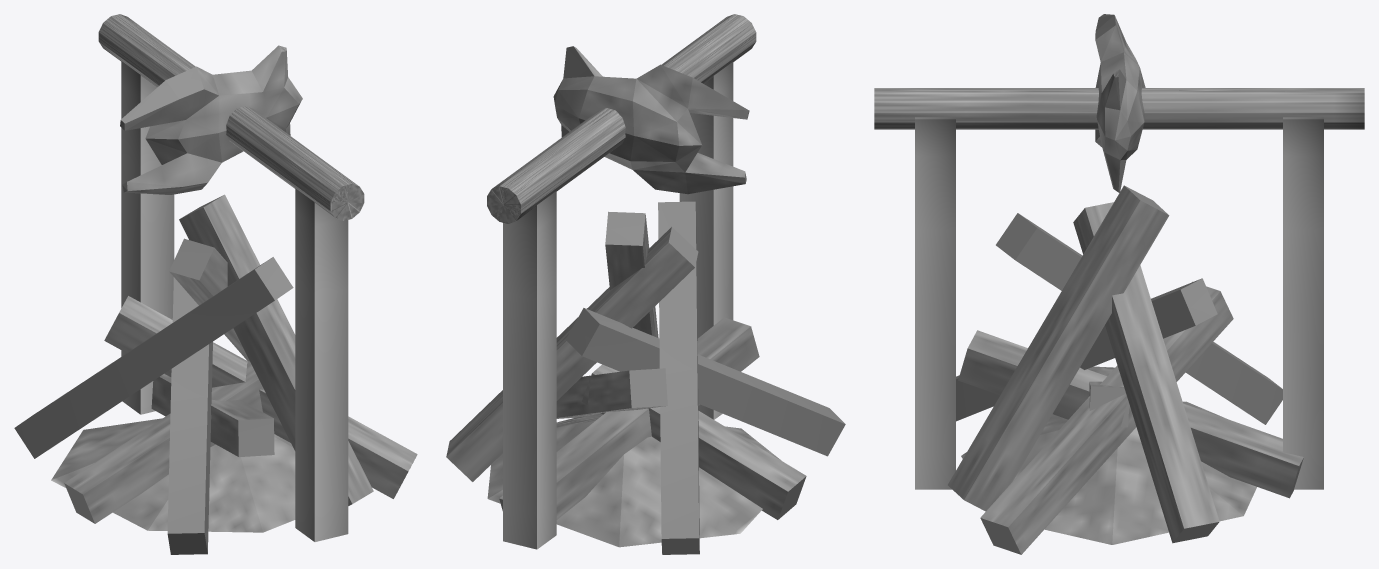
3 views of the same model, side by side, from view 1: azimuth 30°, elevation 25°; view 2: azimuth 150°, elevation 25°; view 3: azimuth 270°, elevation 25° (orthographic). The views are drawn at different scales.
Visible parts, largest first — view 1: Wood, cylinder, Bird, Ashes; view 2: Wood, cylinder, Bird, Ashes; view 3: Wood, cylinder, Ashes, Bird.
Part boxes in pixels (left/top/right/bottom): Wood: left=14, top=194, right=417, bottom=554; cylinder: left=98, top=14, right=364, bottom=541; Bird: left=120, top=45, right=302, bottom=194; Ashes: left=51, top=418, right=295, bottom=532; Wood: left=446, top=201, right=845, bottom=554; cylinder: left=487, top=14, right=756, bottom=549; Bird: left=553, top=46, right=749, bottom=194; Ashes: left=487, top=414, right=781, bottom=547; Wood: left=948, top=185, right=1303, bottom=554; cylinder: left=874, top=88, right=1364, bottom=489; Ashes: left=961, top=401, right=1256, bottom=544; Bird: left=1095, top=14, right=1145, bottom=193.
Size of the model in its own units: 0.2844 by 0.3783 by 0.375.
